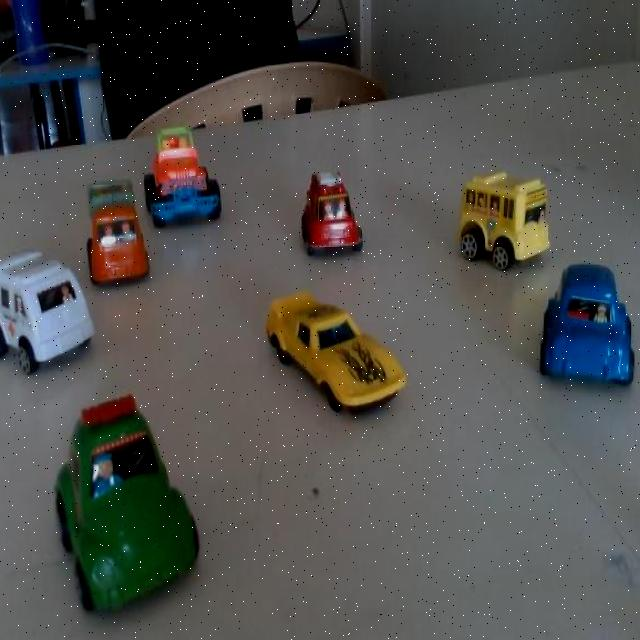car: (34, 404, 193, 592), (256, 282, 406, 420), (0, 229, 102, 392), (540, 261, 638, 389), (447, 170, 544, 280), (147, 117, 234, 226), (286, 160, 365, 274), (78, 169, 148, 293)
